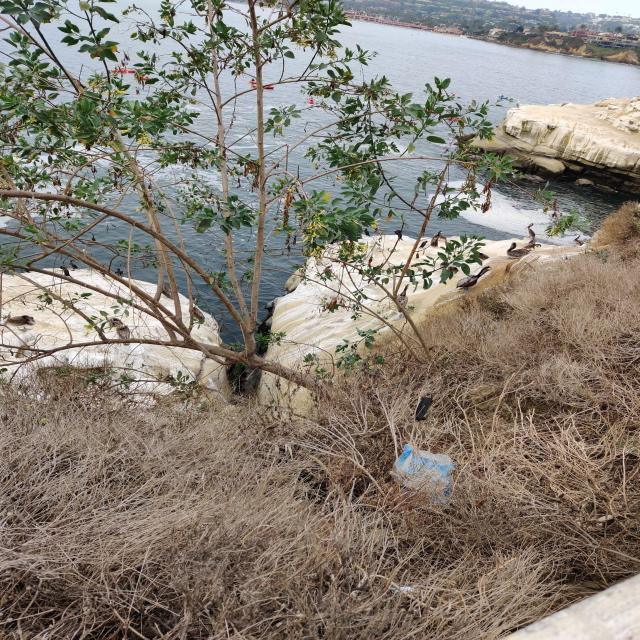litter: (388, 444, 456, 503)
